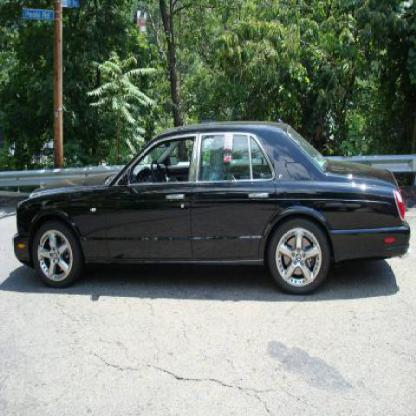car: (11, 122, 413, 300)
